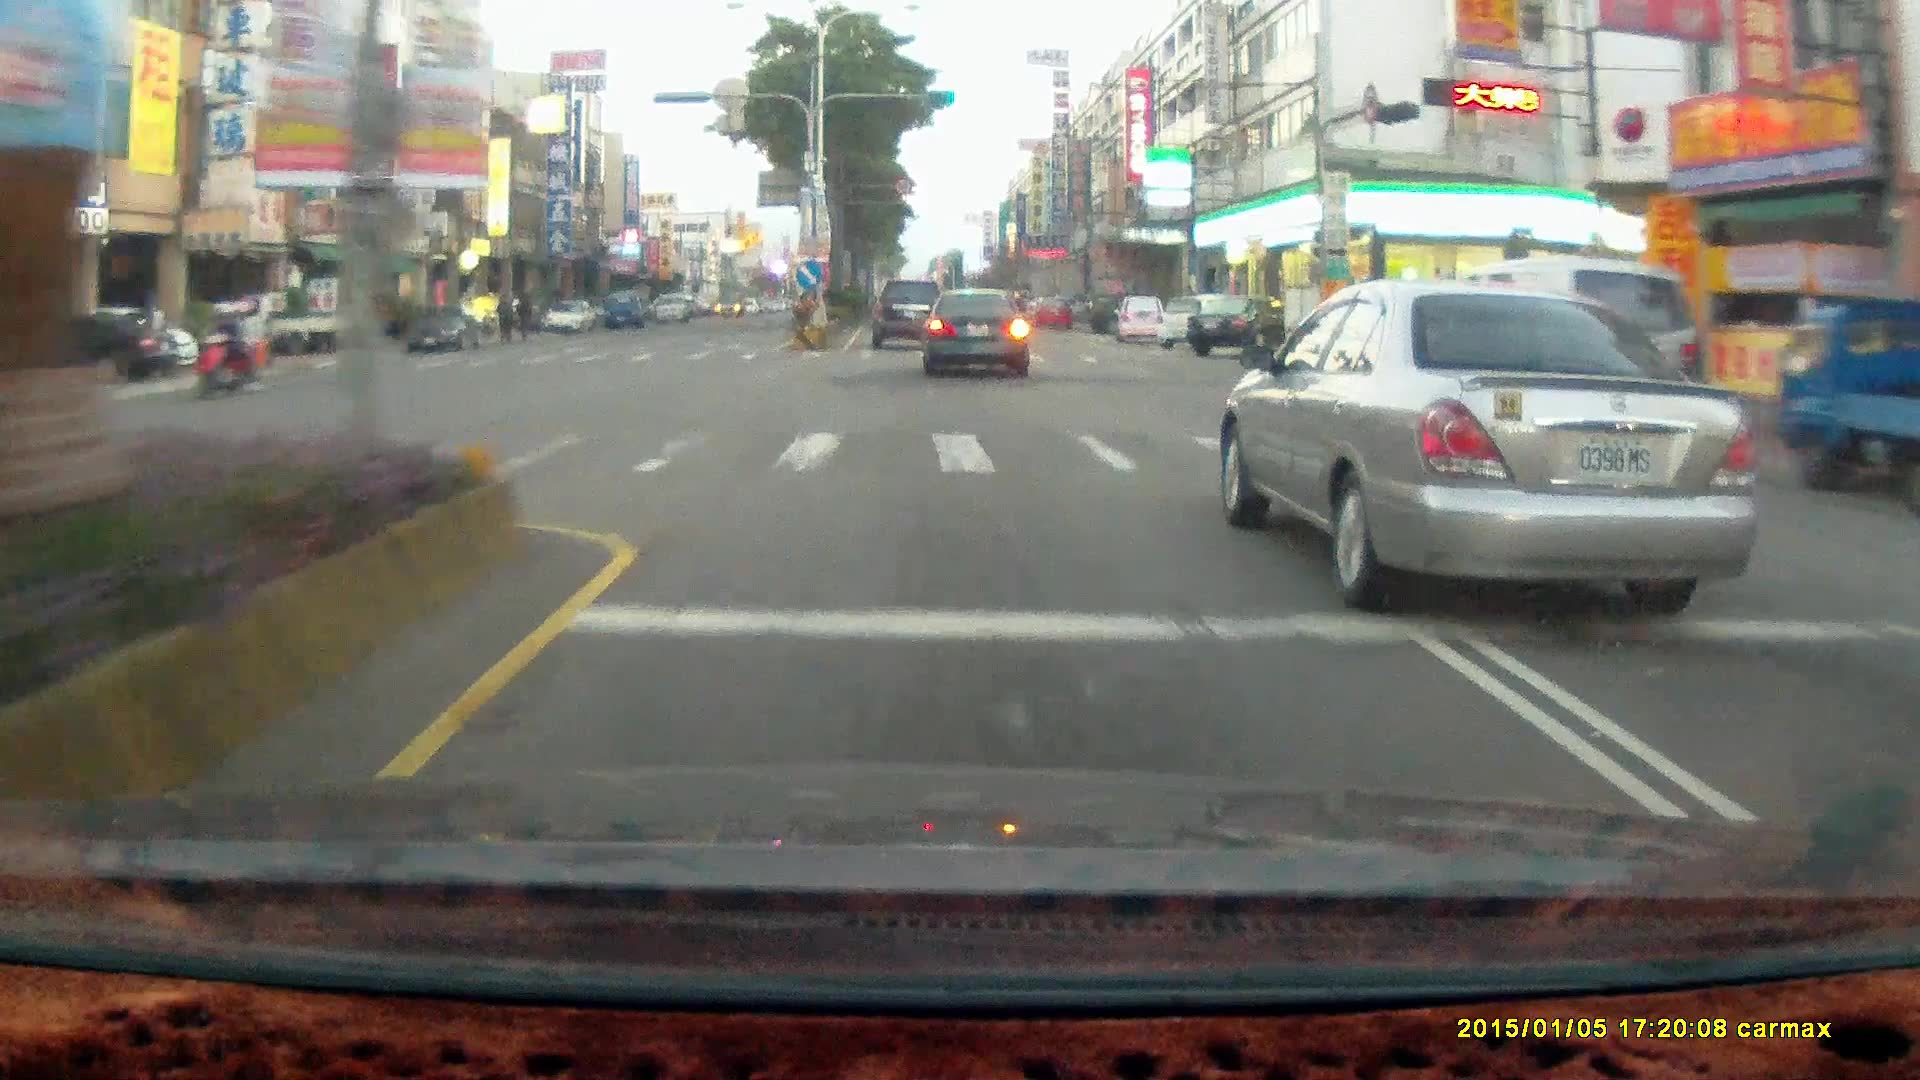pedestrian: (493, 286, 515, 341), (492, 288, 514, 341), (514, 282, 536, 338), (513, 289, 533, 342)
rider: (182, 298, 265, 397)
vehicle: (1221, 281, 1760, 601), (1393, 257, 1707, 461), (1394, 258, 1708, 462), (1773, 297, 1920, 517), (1781, 302, 1920, 501), (3, 305, 180, 383), (4, 310, 190, 382), (220, 292, 364, 367), (195, 291, 355, 357), (924, 291, 1034, 382), (922, 286, 1028, 377), (1185, 293, 1303, 357), (1185, 295, 1288, 358), (868, 274, 944, 351), (869, 278, 945, 349), (1155, 292, 1240, 348), (403, 299, 488, 356), (406, 310, 482, 351), (1117, 297, 1172, 349), (1111, 294, 1168, 344), (1084, 288, 1149, 330), (541, 299, 599, 337), (541, 298, 593, 330), (603, 289, 641, 325), (1031, 294, 1071, 327), (647, 292, 681, 319)
